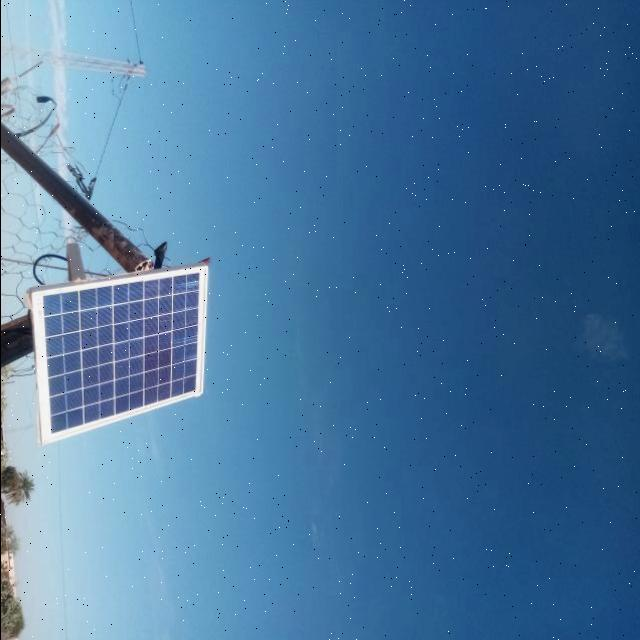Normal Solar Panel: (31, 266, 206, 444)
